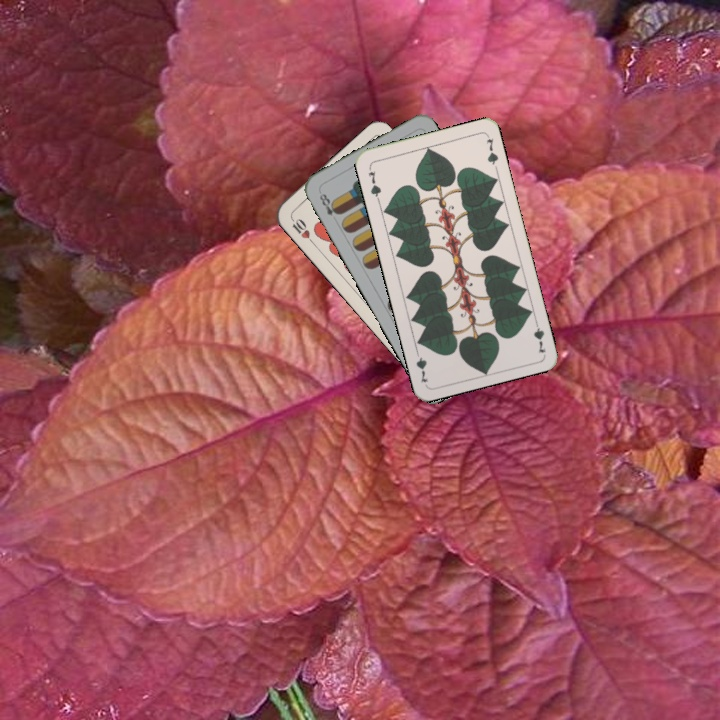E8: (315, 187, 343, 219)
G7: (364, 163, 384, 203), (530, 315, 548, 356)
H10: (286, 212, 317, 246)
